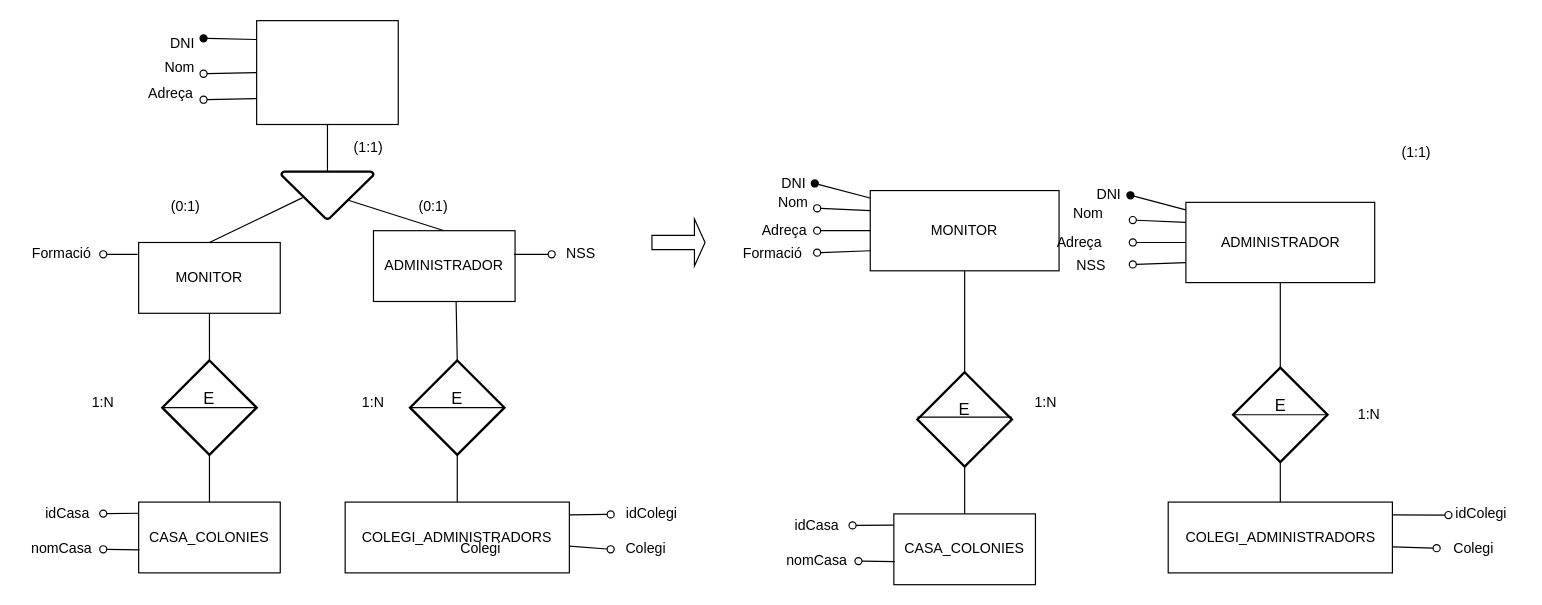
Some shapes in this 1542 by 605 pixel diagram are drawn without their labels. The box of each missing label's shape, as (x1, y1, x2, y2) in pixels:
es: (280, 170, 374, 219)
PERSONAL: (255, 19, 398, 124)
